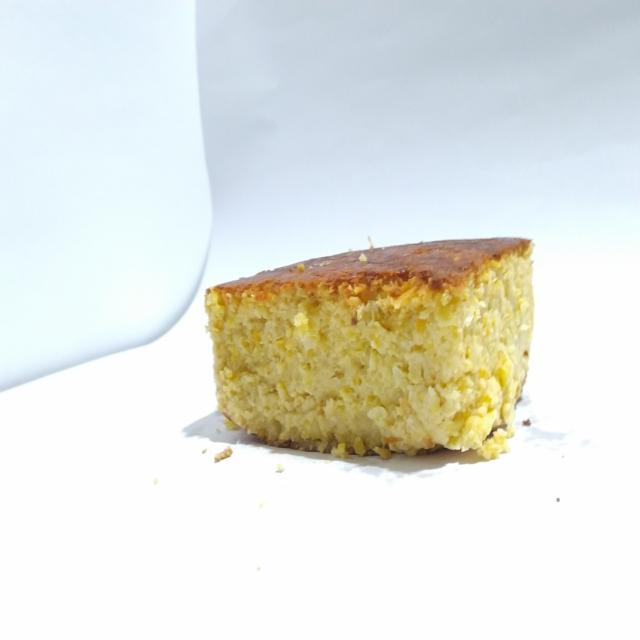Chipa_Guazu: (195, 220, 557, 473)
